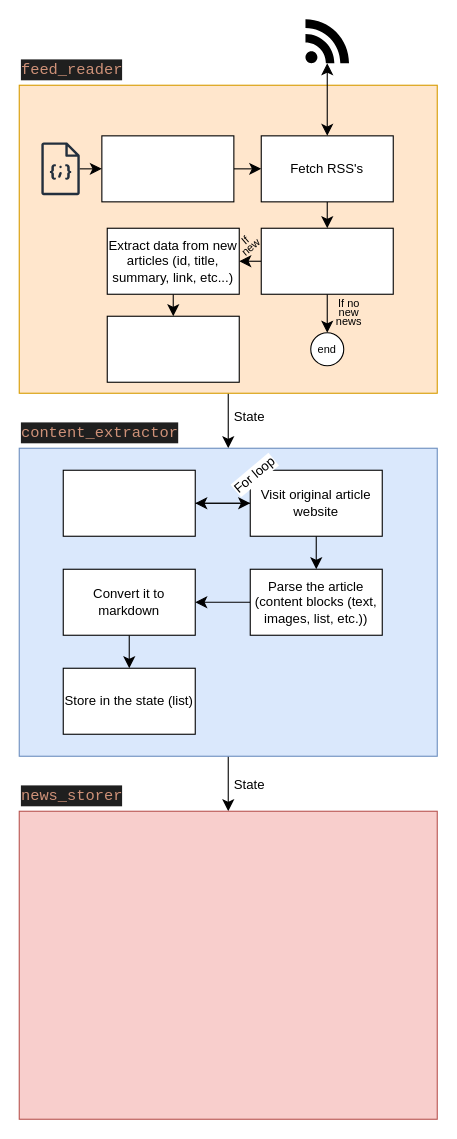
The diagram is 457 pixels wide and 1139 high, and some of its shapes have lost their labels. The centre of each missing label's shape, as x and y in pixels:
"Check if there is any new news in RSS (using state)" goes at [326,260].
"Check list of RSS sources" goes at [167,168].
"Get list of new articles from state" goes at [128,502].
"Store new articles in shared state" goes at [172,348].
